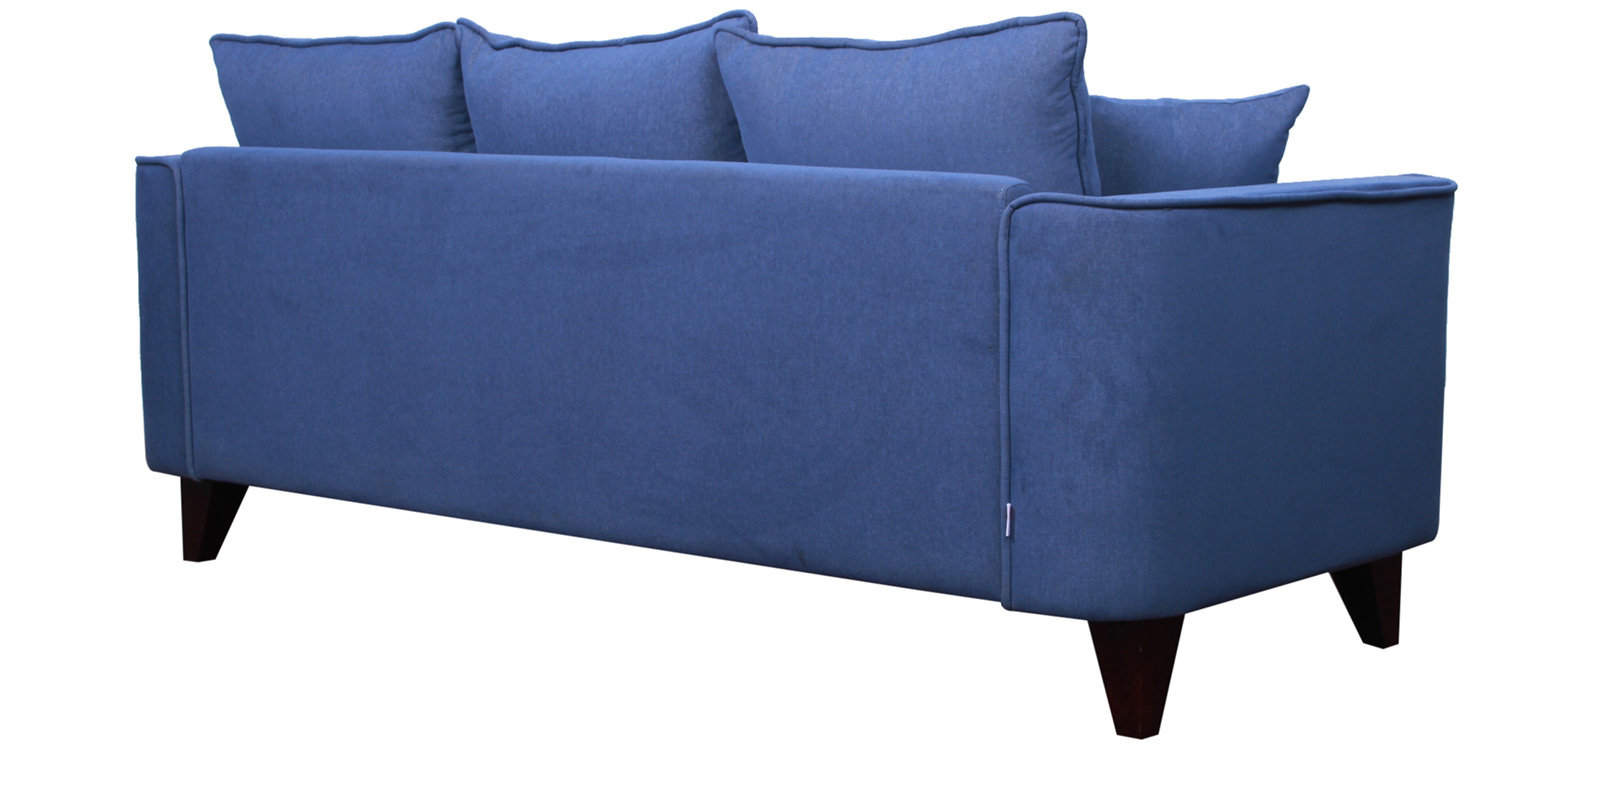Lara Three Seater Sofa in Denim Blue Colour by CasaCraft: (133, 8, 1457, 739)
